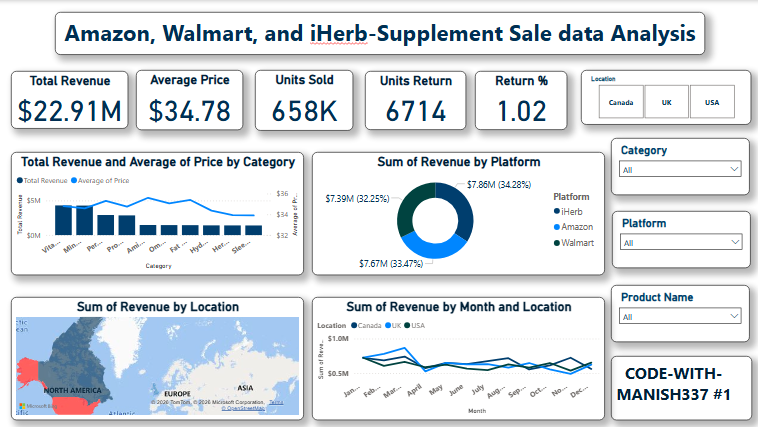

The dashboard page shown, as its layout file describes it:
{"tool":"powerbi","page":{"name":"Page 1","canvas":[1280,720],"ordinal":0},"visuals":[{"type":"textbox","box":[95.7,20.2,1091.9,72.2],"z":0},{"type":"card","title":"Total Revenue","fields":{"Values":["Sum(Supplement_Sales_Weekly_Expanded.Revenue)"]},"box":[21.8,119.3,196.5,97.4],"z":1000},{"type":"card","title":"Average Price","fields":{"Values":["Avg(Supplement_Sales_Weekly_Expanded.Price)"]},"box":[231.8,117.6,179.7,100.8],"z":2000},{"type":"card","title":"Units Sold","fields":{"Values":["Sum(Supplement_Sales_Weekly_Expanded.Units Sold)"]},"box":[431.7,117.6,164.6,102.5],"z":3000},{"type":"card","title":"Units Return","fields":{"Values":["Sum(Supplement_Sales_Weekly_Expanded.Units Returned)"]},"box":[616.5,119.3,169.7,99.1],"z":4000},{"type":"card","title":"Return %","fields":{"Values":["Supplement_Sales_Weekly_Expanded.Return %"]},"box":[801.3,119.3,154.5,99.1],"z":5000},{"type":"slicer","fields":{"Values":["Supplement_Sales_Weekly_Expanded.Category"]},"box":[1029.7,231.8,233.5,95.7],"z":6000},{"type":"slicer","fields":{"Values":["Supplement_Sales_Weekly_Expanded.Location"]},"box":[979.3,117.6,285.6,92.4],"z":7000},{"type":"slicer","fields":{"Values":["Supplement_Sales_Weekly_Expanded.Platform"]},"box":[1031.4,354.4,233.5,95.7],"z":8000},{"type":"slicer","fields":{"Values":["Supplement_Sales_Weekly_Expanded.Product Name"]},"box":[1029.7,478.7,233.5,95.7],"z":9000},{"type":"textbox","box":[1029.7,598,236.9,107.5],"z":10000},{"type":"lineStackedColumnComboChart","fields":{"Category":["Supplement_Sales_Weekly_Expanded.Category"],"Y":["Sum(Supplement_Sales_Weekly_Expanded.Revenue)"],"Y2":["Avg(Supplement_Sales_Weekly_Expanded.Price)"]},"box":[21.8,255.3,492.2,206.6],"z":11000},{"type":"donutChart","fields":{"Y":["Sum(Supplement_Sales_Weekly_Expanded.Revenue)"],"Category":["Supplement_Sales_Weekly_Expanded.Platform"]},"box":[527.5,255.3,492.2,206.6],"z":12000},{"type":"filledMap","fields":{"Category":["Supplement_Sales_Weekly_Expanded.Location"]},"box":[21.8,498.9,492.2,206.6],"z":13000},{"type":"lineChart","fields":{"Category":["Supplement_Sales_Weekly_Expanded.Date.Variation.Date Hierarchy.Month"],"Y":["Sum(Supplement_Sales_Weekly_Expanded.Revenue)"],"Series":["Supplement_Sales_Weekly_Expanded.Location"]},"box":[527.5,498.9,492.2,206.6],"z":13001}]}

Visuals, with their boxes in screenshot pixels (x1, y1, x2, y2), scaled from the page's 1280x720 canvas onto the 758x427 screenshot:
textbox: bbox=(57, 12, 703, 55)
"Total Revenue" card: bbox=(13, 71, 129, 129)
"Average Price" card: bbox=(137, 70, 244, 130)
"Units Sold" card: bbox=(256, 70, 353, 131)
"Units Return" card: bbox=(365, 71, 466, 130)
"Return %" card: bbox=(475, 71, 566, 130)
slicer - Supplement_Sales_Weekly_Expanded.Category: bbox=(610, 137, 748, 194)
slicer - Supplement_Sales_Weekly_Expanded.Location: bbox=(580, 70, 749, 125)
slicer - Supplement_Sales_Weekly_Expanded.Platform: bbox=(611, 210, 749, 267)
slicer - Supplement_Sales_Weekly_Expanded.Product Name: bbox=(610, 284, 748, 341)
textbox: bbox=(610, 355, 750, 418)
lineStackedColumnComboChart - Supplement_Sales_Weekly_Expanded.Category x Sum(Supplement_Sales_Weekly_Expanded.Revenue): bbox=(13, 151, 304, 274)
donutChart - Sum(Supplement_Sales_Weekly_Expanded.Revenue) x Supplement_Sales_Weekly_Expanded.Platform: bbox=(312, 151, 604, 274)
filledMap - Supplement_Sales_Weekly_Expanded.Location: bbox=(13, 296, 304, 418)
lineChart - Supplement_Sales_Weekly_Expanded.Date.Variation.Date Hierarchy.Month x Sum(Supplement_Sales_Weekly_Expanded.Revenue): bbox=(312, 296, 604, 418)
